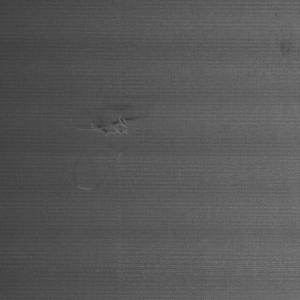Damage: (76, 93, 159, 153)
